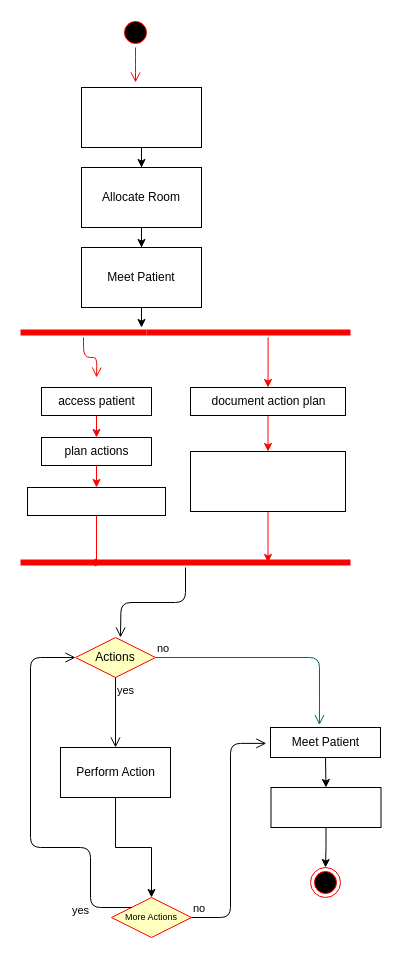
The diagram is 398 pixels wide and 955 high, and some of its shapes have lost their labels. The shapes that lost their labels are listed below. From the top down, each one's centre as x and y in pixels, then its label:
the point at 141,117: Register Patient
the point at 96,501: assign delegate actions
the point at 268,481: document who actions are assigned to
the point at 325,807: Inform patient of overall health
